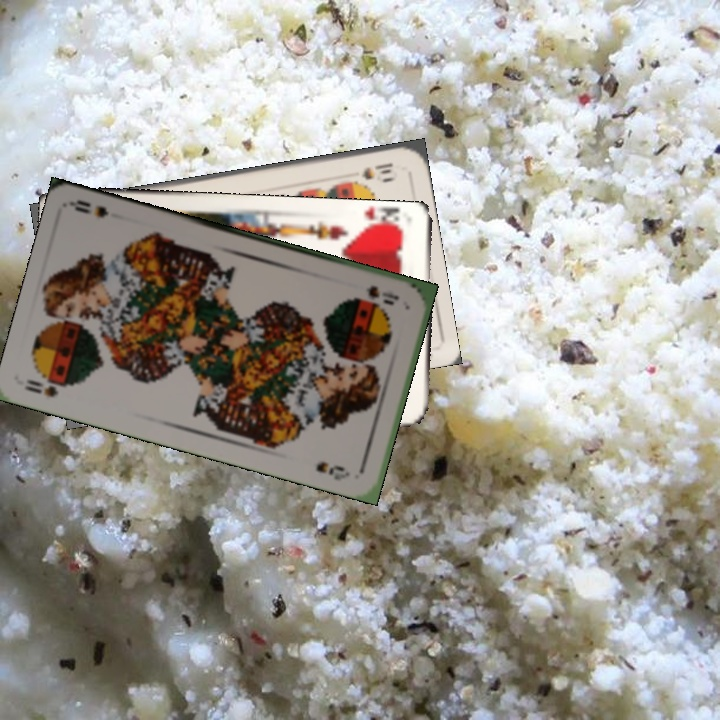HK: (354, 207, 406, 235)
S10: (357, 159, 396, 182)
SO: (363, 281, 401, 308), (20, 375, 61, 400)
